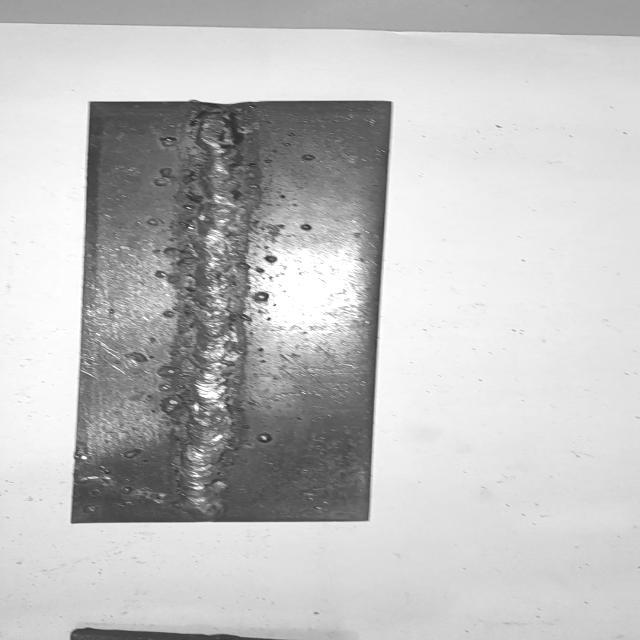Defect: (168, 101, 270, 186)
Welding Line: (174, 110, 252, 514)
Workpiece: (64, 98, 398, 528)
